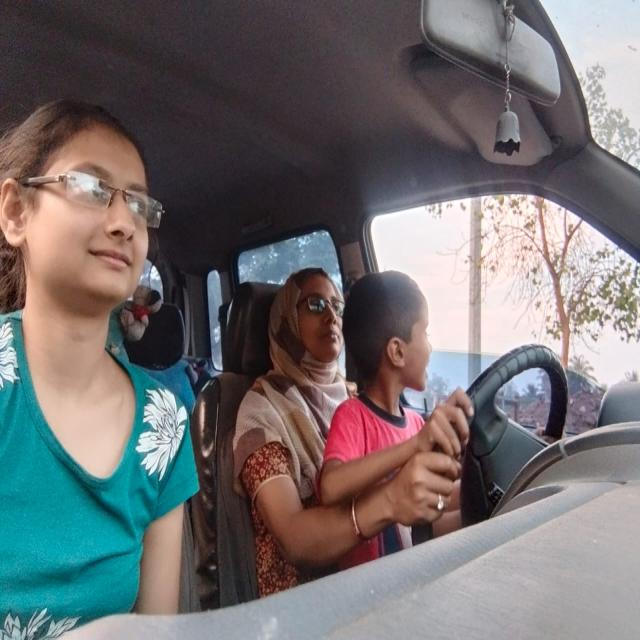child: (345, 263, 440, 412)
person: (5, 90, 164, 337), (272, 255, 348, 380)
